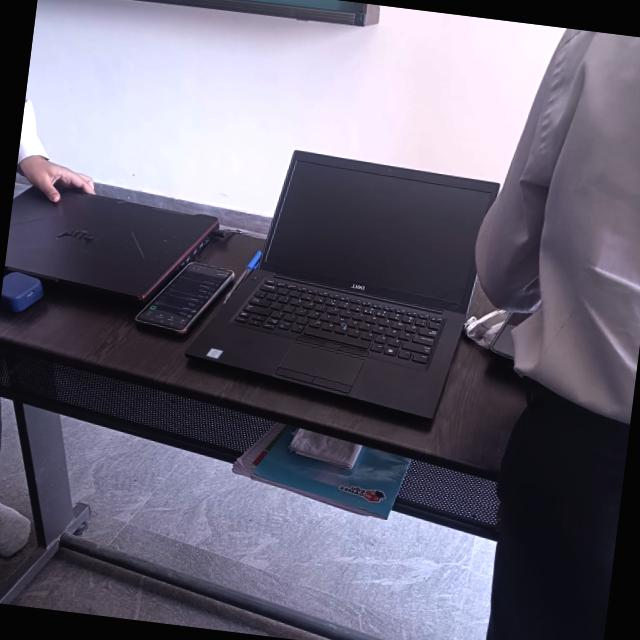laptop: (215, 146, 513, 447), (3, 170, 195, 298)
